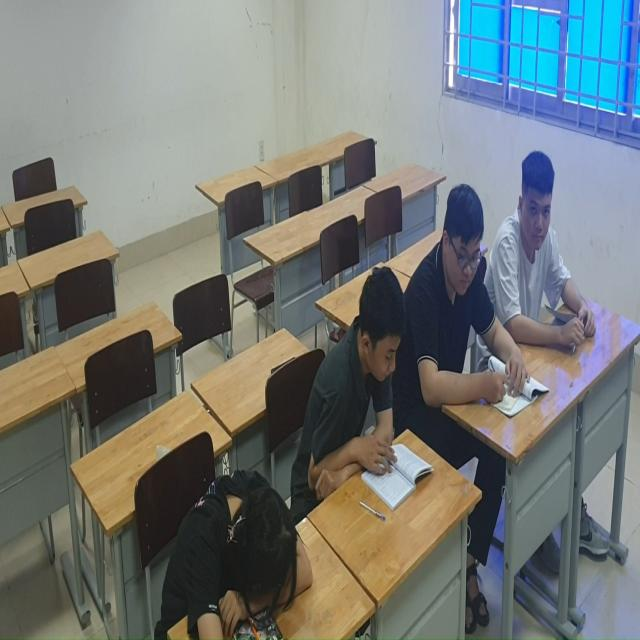read: (417, 184, 529, 431), (311, 274, 421, 504), (497, 153, 601, 363)
sleep: (169, 481, 311, 640)
